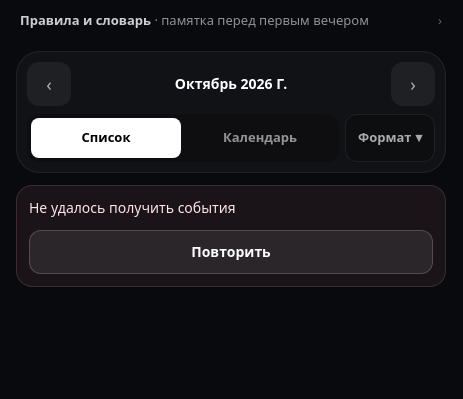
Scenario: Player Cabinet «Вечера» request isolation › shows a retry action for the current month and recovers without changing selection
Check: the message with test id "player-calendar-error" shows "Не удалось получить события", box [29,198,236,217]
Click the button "Повторить" at [231, 252], box [29,230,433,274]
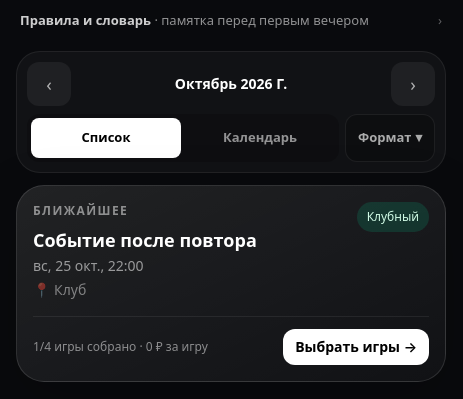
Check: the text "Событие после повтора" is shown, box [33,228,257,252]
Check: the message with test id "player-calendar-error" is gone
